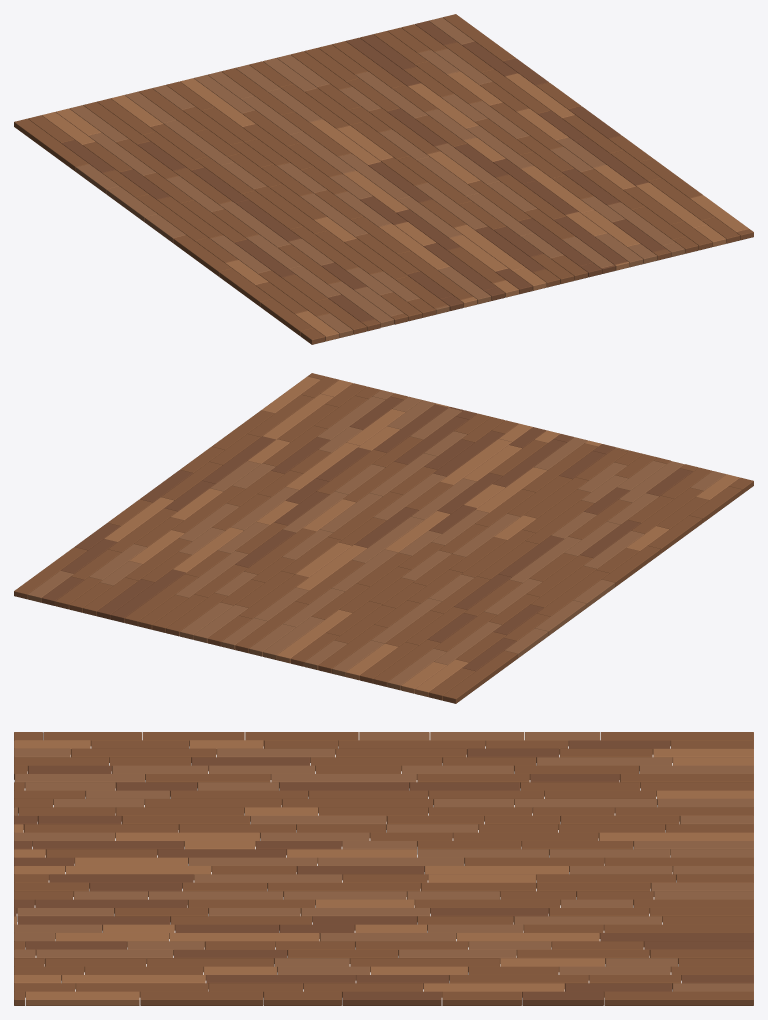
Rendered from SM_Hub_PlankFloor.fbx.
3 renders of one model, top to bottom at view 1: azimuth 30°, elevation 25°; view 2: azimuth 150°, elevation 25°; view 3: azimuth 270°, elevation 25°, orthographic. The views are drawn at different scales.
Parts seen in each view (by area): view 1: Staggered floorboard.236_Baked; view 2: Staggered floorboard.236_Baked; view 3: Staggered floorboard.236_Baked.
Part boxes in pixels (x1,y1,x2,y2): Staggered floorboard.236_Baked: (14, 14, 753, 344); Staggered floorboard.236_Baked: (14, 373, 753, 703); Staggered floorboard.236_Baked: (14, 732, 753, 1005).
Bounding box in the file's own units: 1070 × 1249 × 12.
